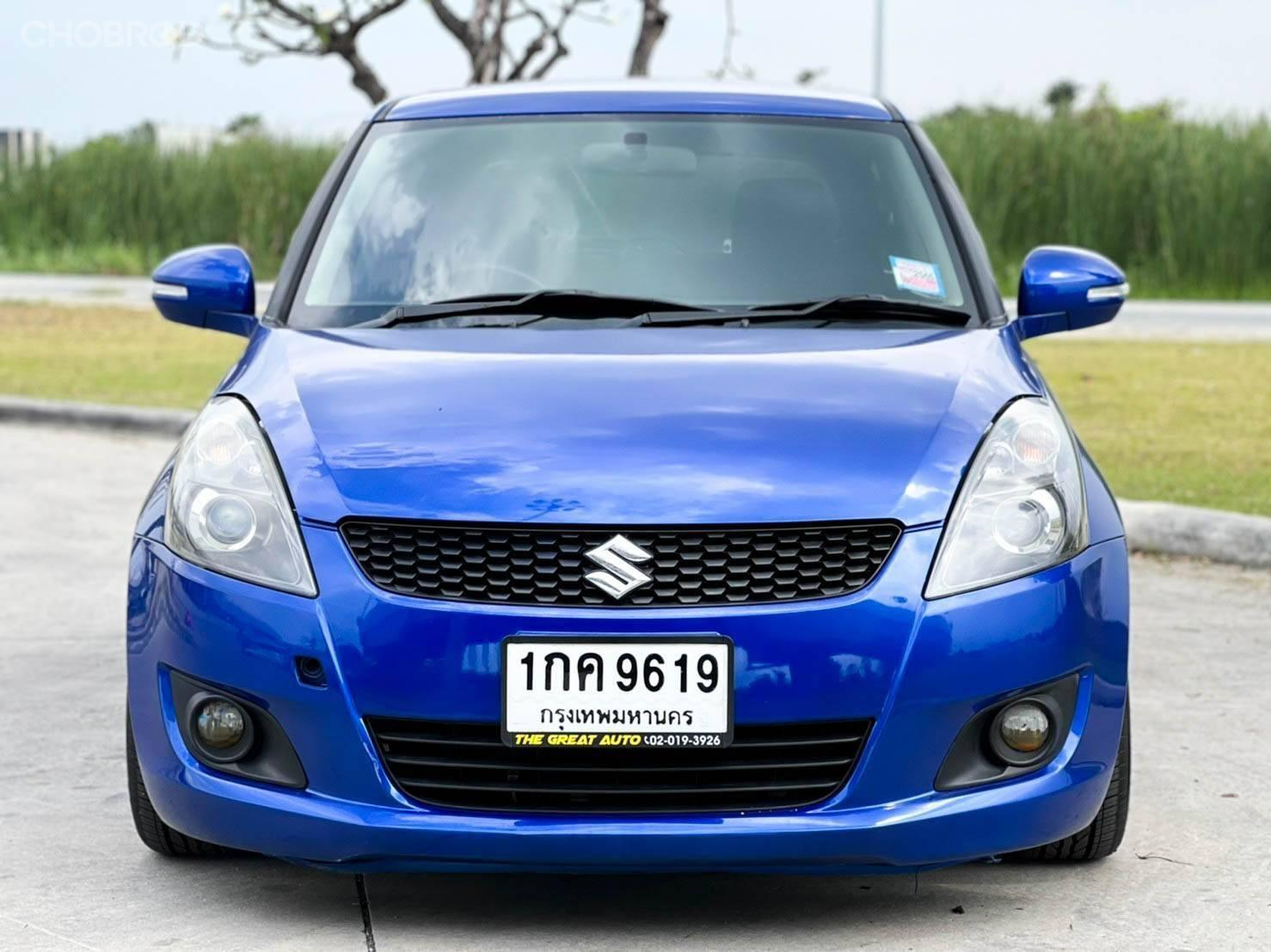license-plate: (502, 630, 733, 750)
